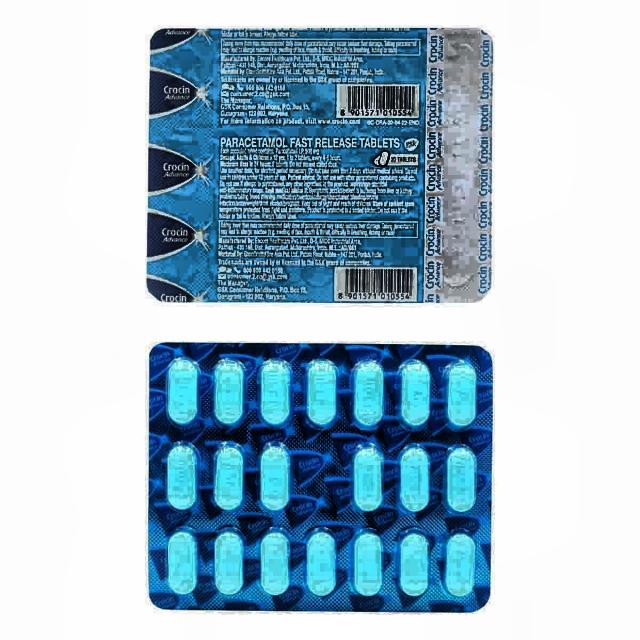Crocin: (155, 32, 219, 302)
